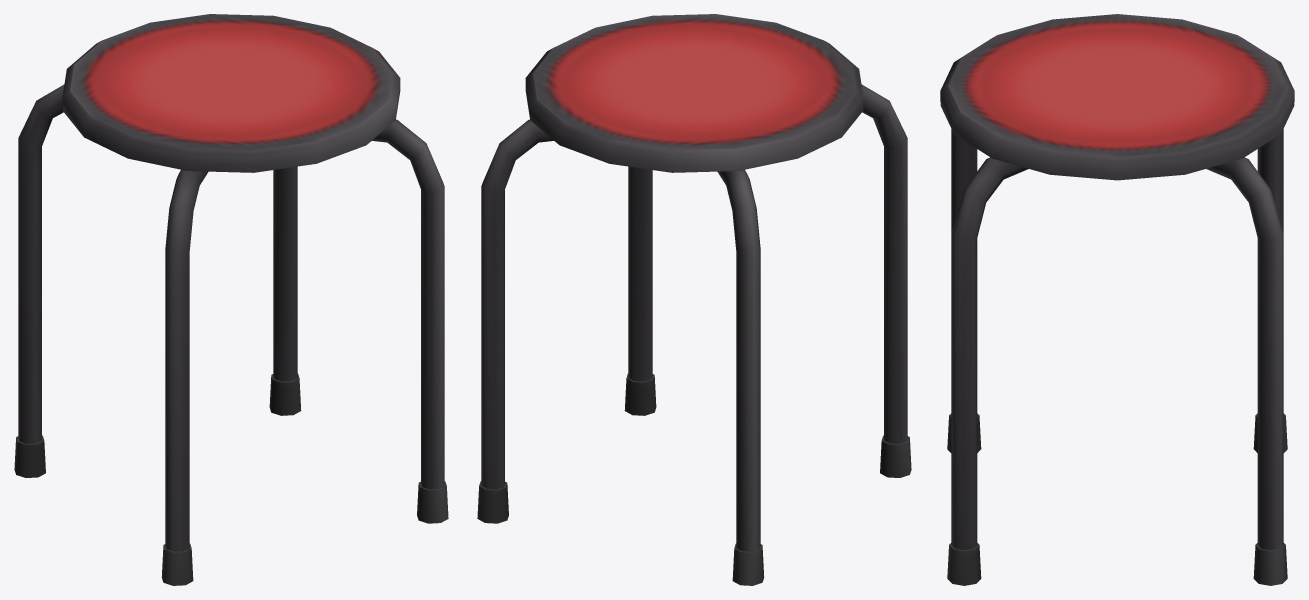
Rendered from jsf_Chair_07.fbx.
3 views of the same model, side by side, from view 1: azimuth 30°, elevation 25°; view 2: azimuth 150°, elevation 25°; view 3: azimuth 270°, elevation 25° (orthographic). The views are drawn at different scales.
Parts seen in each view (by area): view 1: jsf_Chair_07; view 2: jsf_Chair_07; view 3: jsf_Chair_07.
Boxes of the visible parts, left/top/right/bottom form: jsf_Chair_07: left=14, top=14, right=448, bottom=585; jsf_Chair_07: left=477, top=14, right=911, bottom=585; jsf_Chair_07: left=940, top=14, right=1294, bottom=585.
Bounding box in the file's own units: 33 × 44 × 33.
